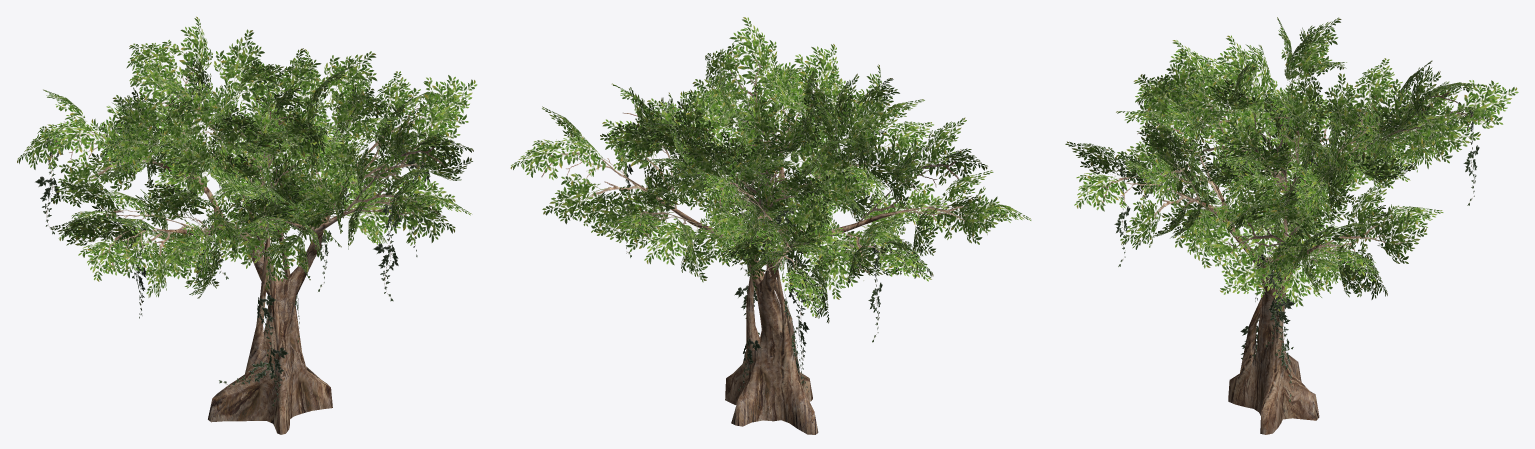
Rendered from Tree.fbx.
3 renders of one model, left to right at view 1: azimuth 30°, elevation 25°; view 2: azimuth 150°, elevation 25°; view 3: azimuth 270°, elevation 25°, orthographic.
Parts seen in each view (by area): view 1: BanyanTree; view 2: BanyanTree; view 3: BanyanTree.
Boxes of the visible parts, left/top/right/bottom form: BanyanTree: left=17, top=16, right=477, bottom=434; BanyanTree: left=510, top=17, right=1031, bottom=434; BanyanTree: left=1065, top=17, right=1518, bottom=434.
Size of the model in its own units: 32.98 by 24.25 by 28.69.
Materials: 2 (2 with a texture image).
